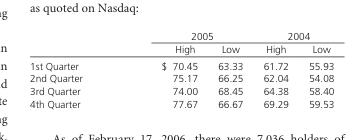table: (29, 29, 333, 109)
table column: (29, 29, 121, 109), (121, 29, 207, 109), (252, 29, 298, 109), (207, 29, 252, 109), (298, 29, 333, 109)
table column header: (29, 29, 333, 57)
table row: (29, 42, 333, 57), (29, 57, 333, 71), (29, 29, 333, 42), (29, 71, 333, 84), (29, 84, 333, 97), (29, 97, 333, 109)
table spanning cell: (121, 29, 252, 42), (252, 29, 333, 42)
